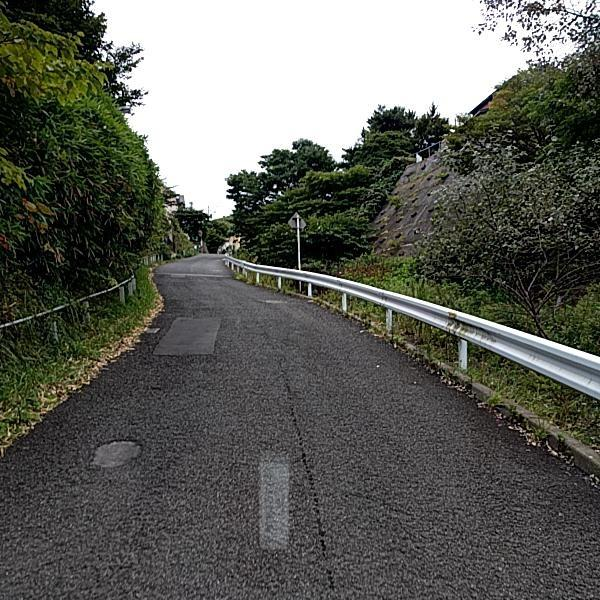pothole: (87, 434, 146, 473)
